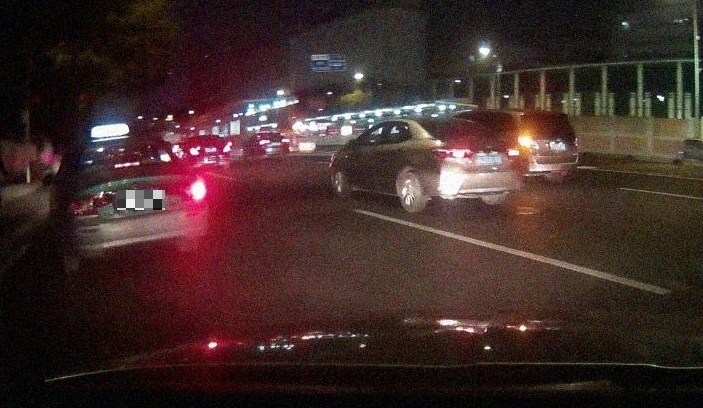L_light: (65, 190, 112, 217), (517, 134, 537, 148)
R_light: (182, 176, 207, 202), (573, 137, 578, 147)
T_light: (112, 161, 143, 169), (542, 114, 555, 117)
night-left: (513, 110, 579, 181)
night-right: (63, 134, 209, 268)
plate_1: (117, 190, 165, 210)
